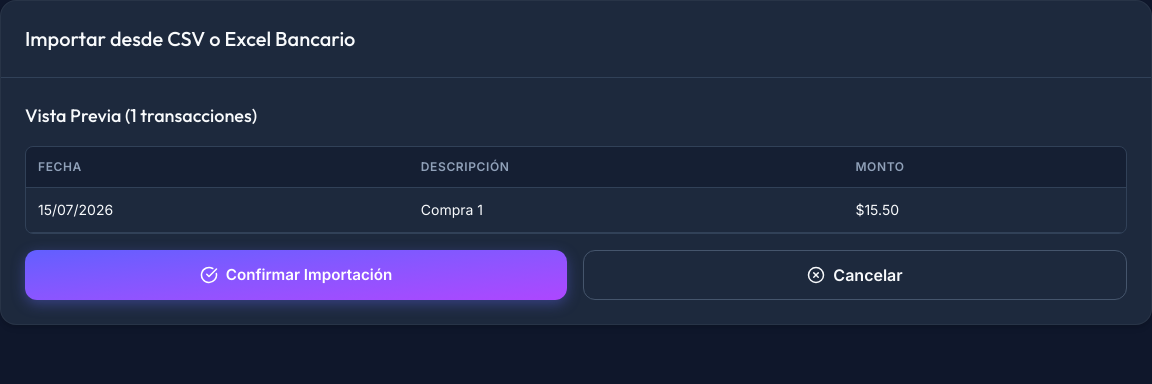
ImportDropzone component › should parse file content and display preview layout correctly on upload
Earlier steps of the test are not shown.
Expected: the heading "Vista Previa (1 transacciones)" is shown, [25,104,257,127]
Expected: the text "Compra 1" is shown, [409,188,843,232]
What coordinates should you click on to do the following:
click the button "Cancelar"
I would click on:
 (855, 275)
Its box is [583,250,1127,300].
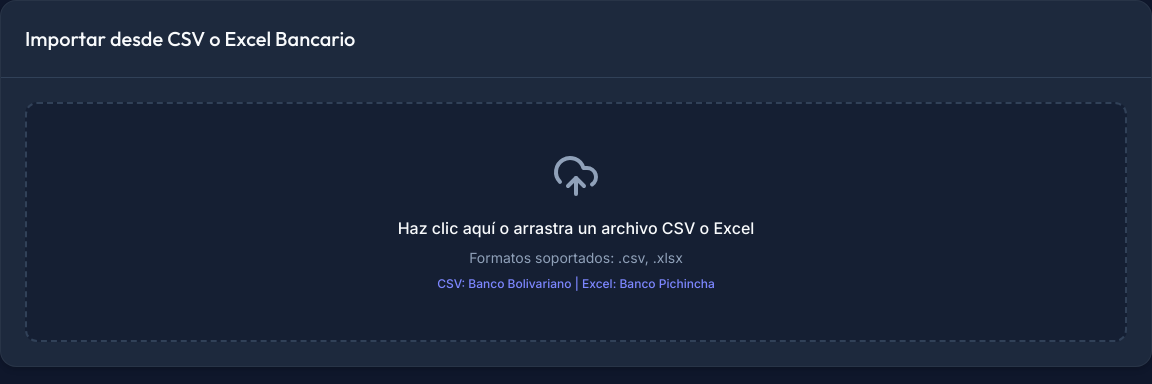
Result: the text "Haz clic aquí o arrastra un archivo CSV o Excel" is shown at [398,216,754,240]
